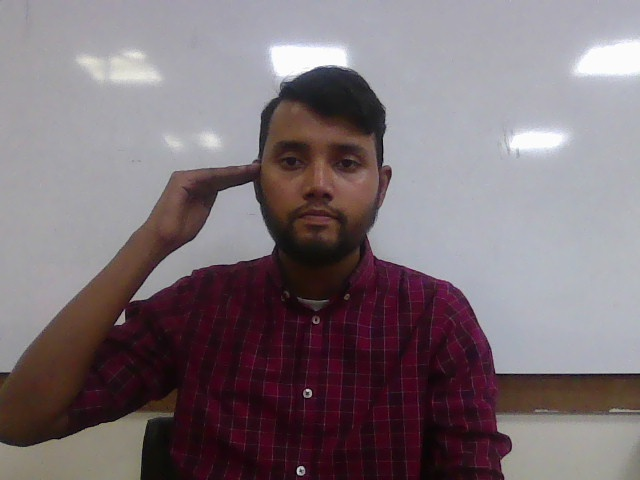Prottibondhi: (142, 162, 268, 249)
